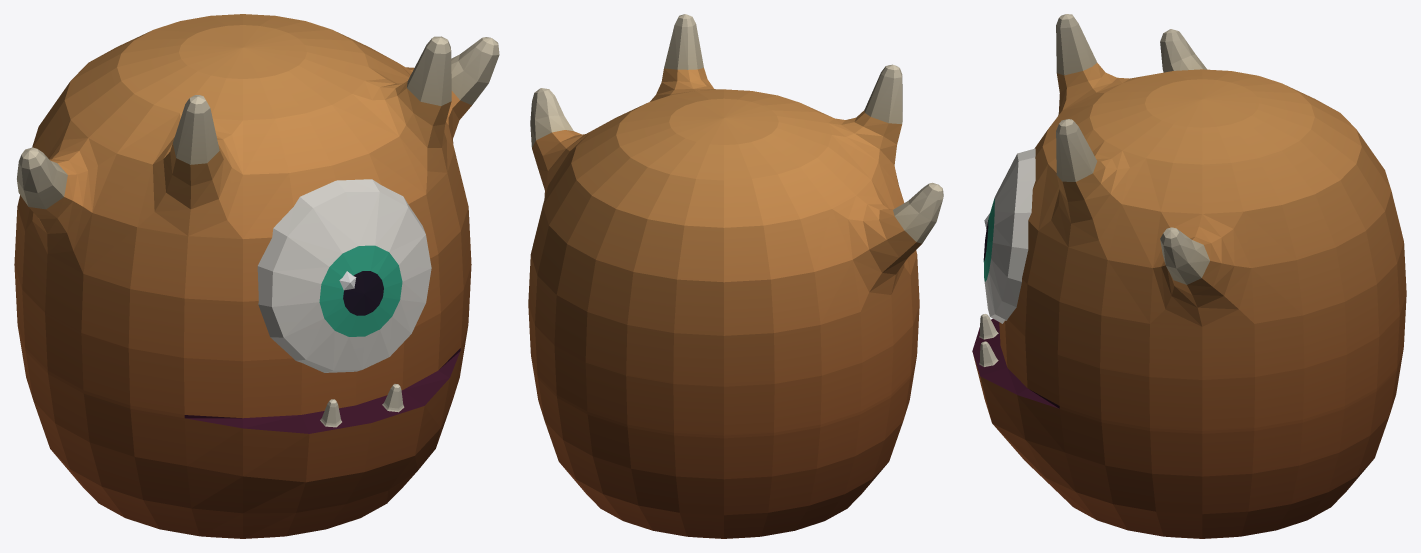
The model's file is Cyclops.glb.
3 renders of one model, left to right at view 1: azimuth 30°, elevation 25°; view 2: azimuth 150°, elevation 25°; view 3: azimuth 270°, elevation 25°, orthographic. The views are drawn at different scales.
Visible parts, largest first — view 1: Crypt_Cyclops; view 2: Crypt_Cyclops; view 3: Crypt_Cyclops.
Boxes of the visible parts, x1,y1,x2,y2 form: Crypt_Cyclops: [14, 14, 499, 538]; Crypt_Cyclops: [528, 14, 943, 538]; Crypt_Cyclops: [972, 14, 1406, 538].
Bounding box in the file's own units: 1.72 × 1.68 × 1.52.
